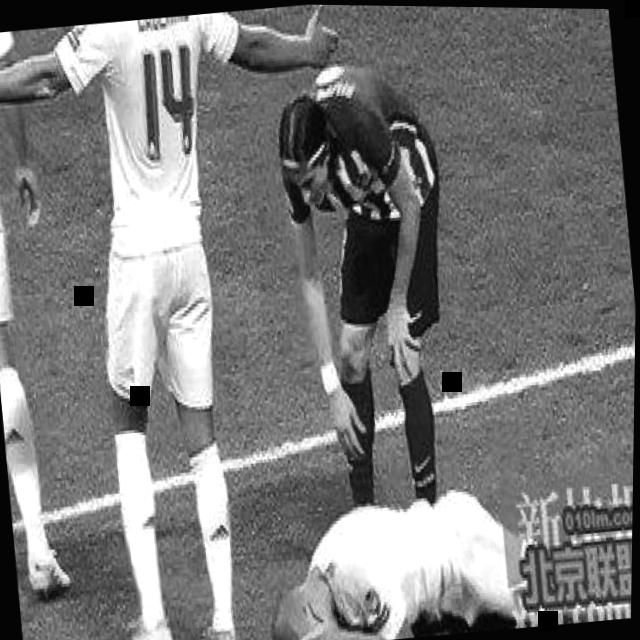Fall-Detected: (250, 445, 577, 640)
